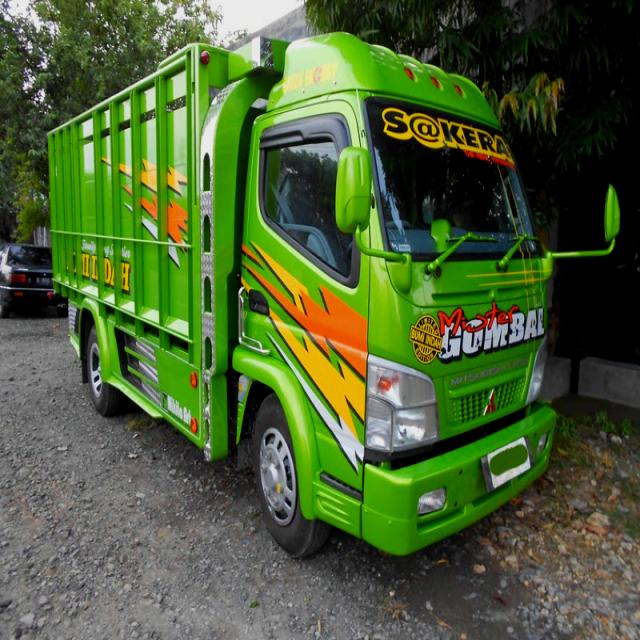truck: (47, 27, 620, 565)
